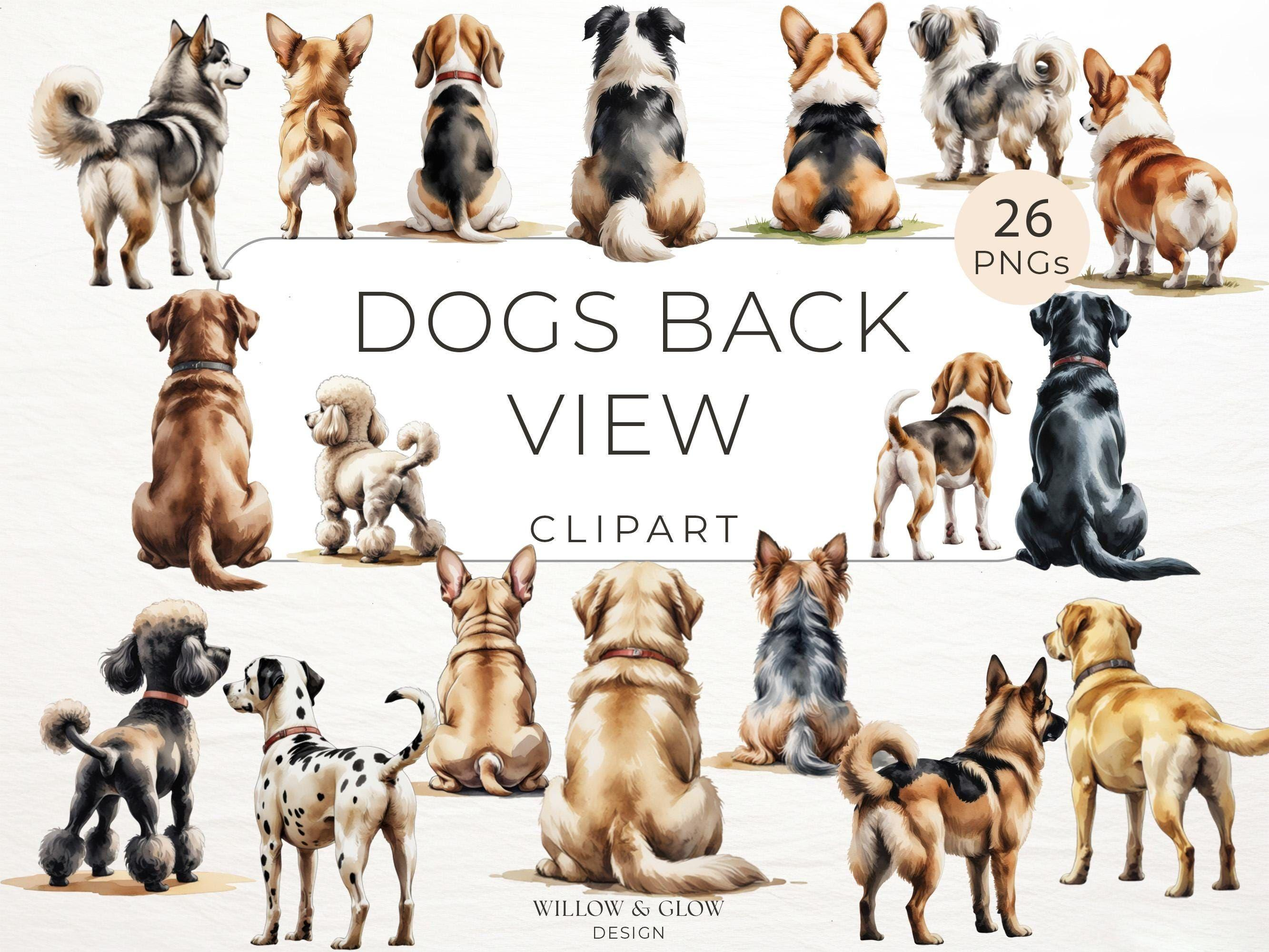adult_dog: (535, 560, 772, 896), (833, 652, 1068, 946), (1041, 597, 1269, 898), (221, 653, 438, 950), (29, 14, 252, 291), (35, 598, 234, 894), (1013, 289, 1202, 583), (129, 288, 275, 594), (563, 2, 720, 265), (1078, 41, 1240, 290), (729, 527, 866, 777), (767, 1, 905, 244), (425, 544, 552, 796), (906, 2, 1081, 182), (869, 351, 1014, 562), (302, 373, 448, 564), (404, 12, 520, 244), (263, 10, 376, 240)
